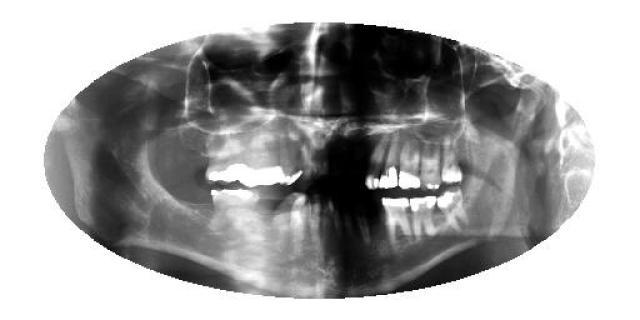Cavity: (340, 204, 358, 240), (357, 208, 372, 248)
Fillings: (242, 135, 278, 189), (204, 138, 242, 182), (382, 196, 412, 246), (436, 189, 469, 230), (407, 195, 435, 243), (378, 131, 400, 190), (399, 141, 420, 189)
